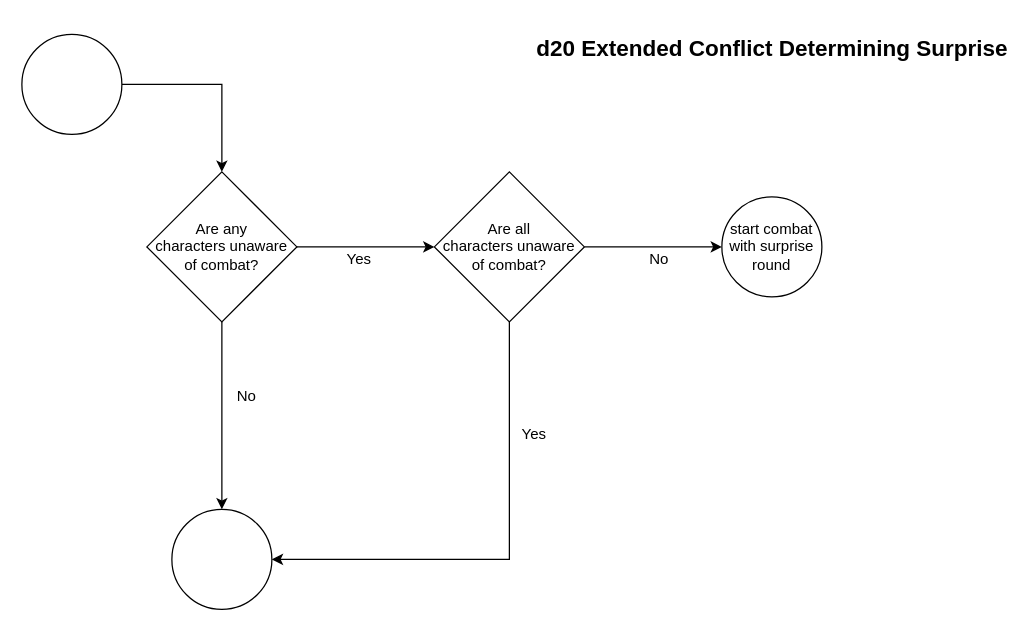
Some shapes in this 1029 by 631 pixel diagram are drawn without their labels. Here are the shapes that lost their labels. From the top down, the box of each, then its label:
(21, 33, 122, 134): start
(171, 508, 272, 609): no surprise
